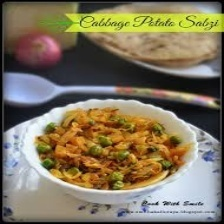sabzi: (35, 105, 184, 190)
